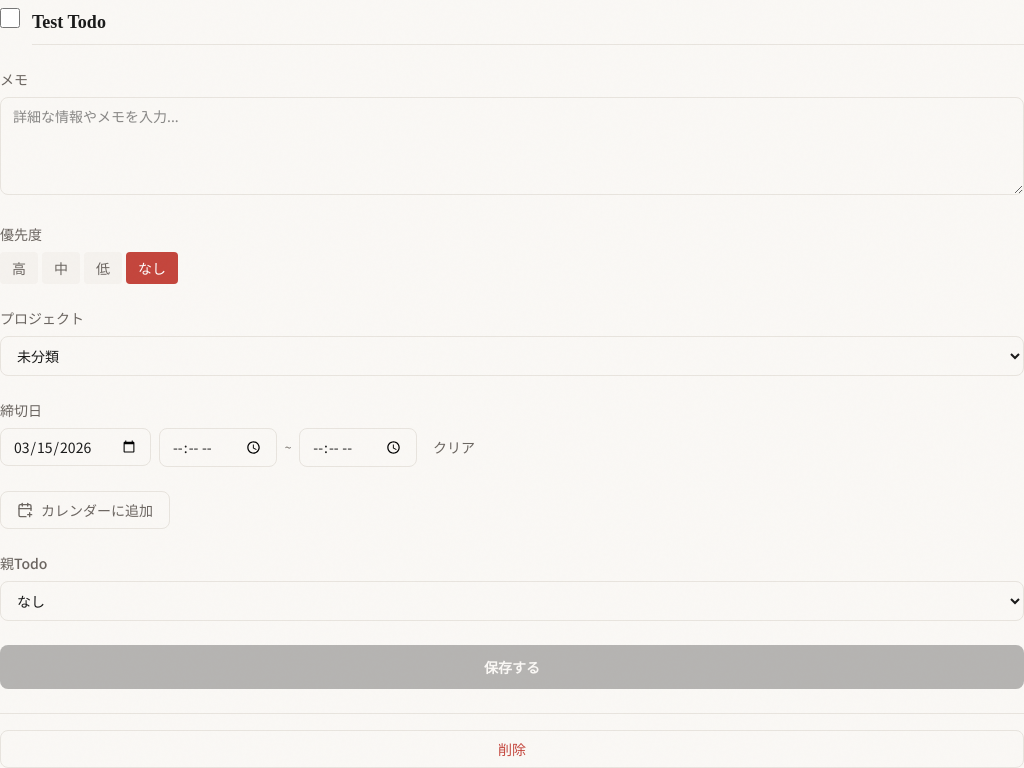
TodoDetailForm › due date › should clear due date when clear button clicked
Click the button "クリア" at [454, 447], box [425, 433, 483, 461]
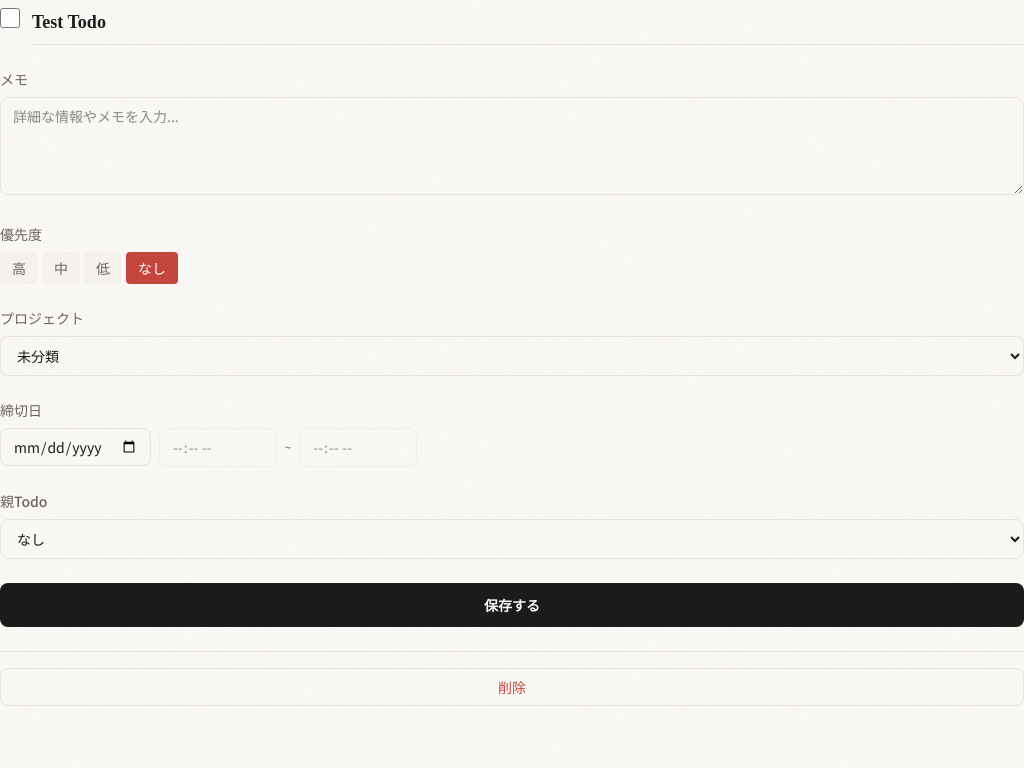
Now the date field labelled "締切日" is empty, box [0, 428, 151, 466]
